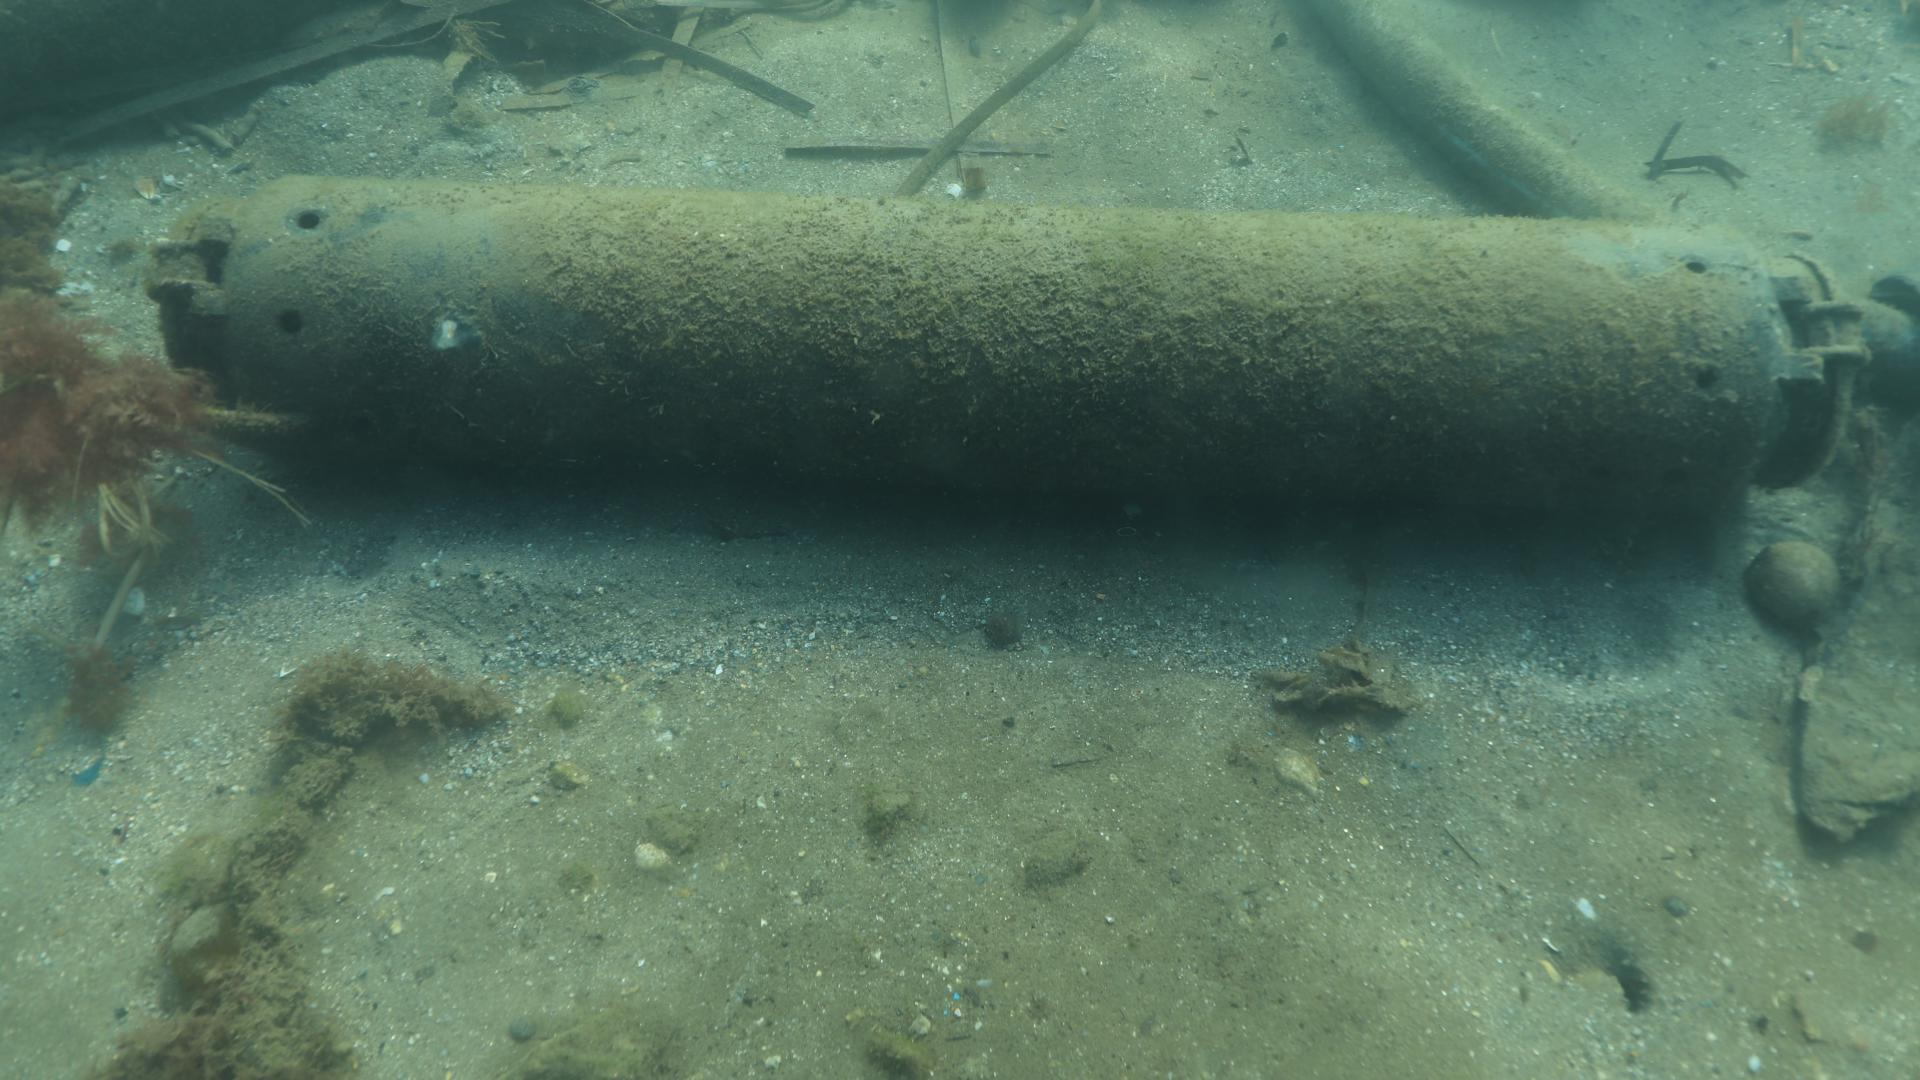eel fish trap: (142, 171, 1849, 512)
